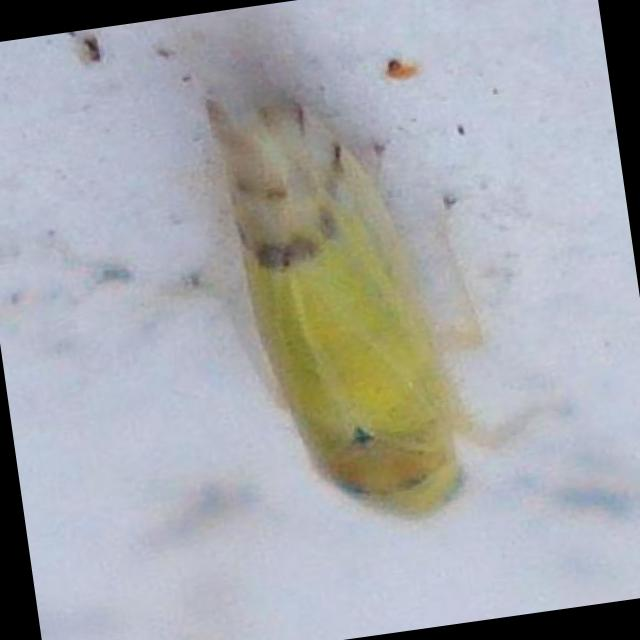green-leafhopper: (218, 68, 547, 540)
